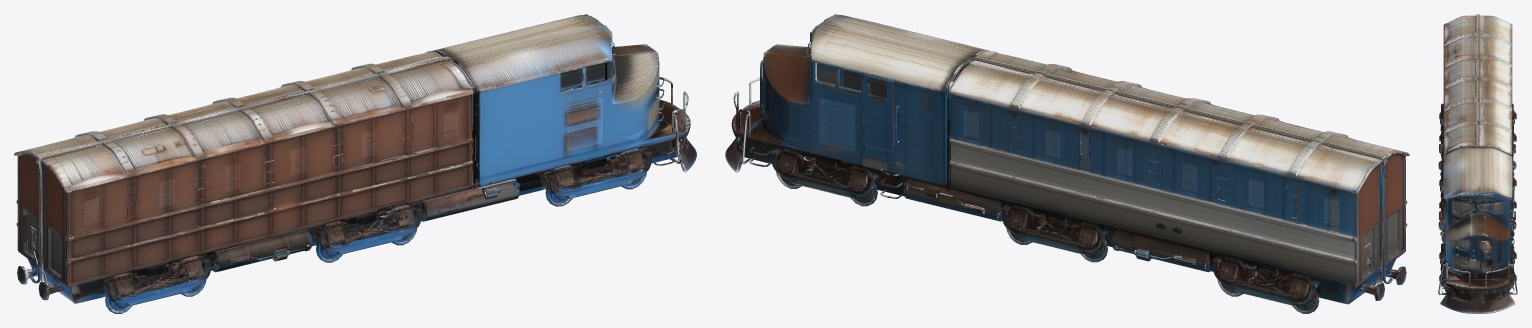
3 renders of one model, left to right at view 1: azimuth 30°, elevation 25°; view 2: azimuth 150°, elevation 25°; view 3: azimuth 270°, elevation 25°, orthographic. The views are drawn at different scales.
Visible parts, largest first — view 1: Node; view 2: Node; view 3: Node.
Part boxes in pixels (left/top/right/bottom): Node: left=14, top=14, right=696, bottom=313; Node: left=725, top=14, right=1409, bottom=313; Node: left=1438, top=14, right=1517, bottom=313.
Size of the model in its own units: 2 by 0.449 by 0.3223.
Materials: 1 (1 with a texture image).
